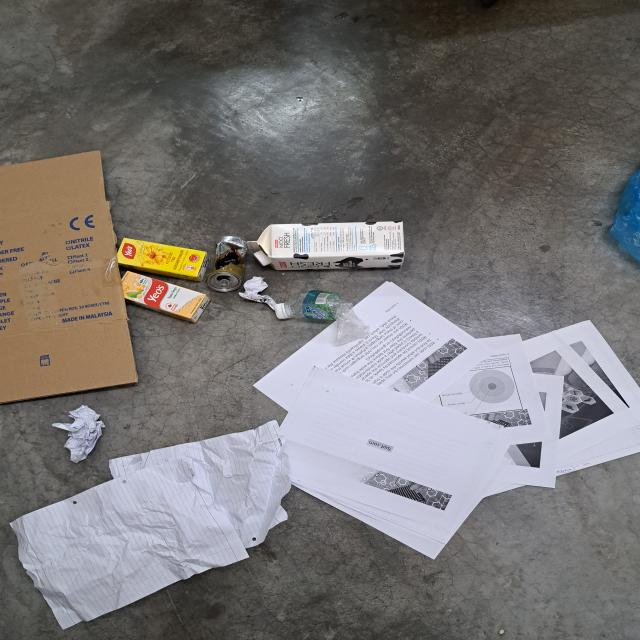can: (208, 236, 247, 291)
cardboard: (0, 150, 140, 407), (53, 404, 106, 464)
drink carton: (247, 220, 406, 270), (121, 270, 210, 323), (116, 237, 210, 282)
paper: (252, 282, 640, 558), (10, 420, 292, 630), (238, 276, 277, 310)
plastic bag: (610, 164, 640, 265)
plastic bottle: (275, 289, 370, 344)
plastic bottle cap: (254, 249, 272, 267), (274, 303, 292, 319)
pop tab: (218, 278, 230, 289)
